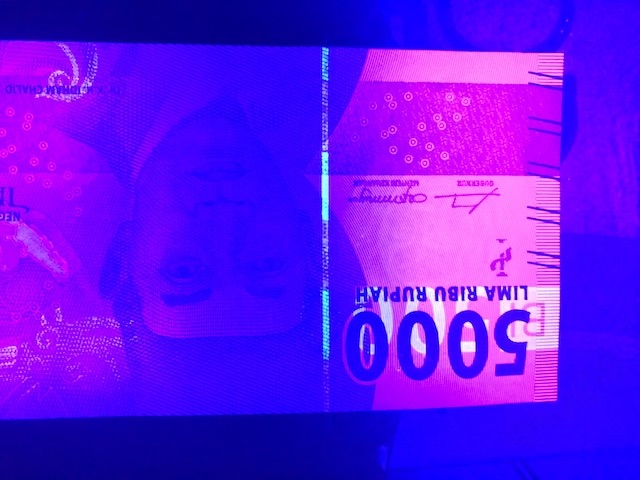5_RIBU_ASLI: (349, 277, 558, 357)
